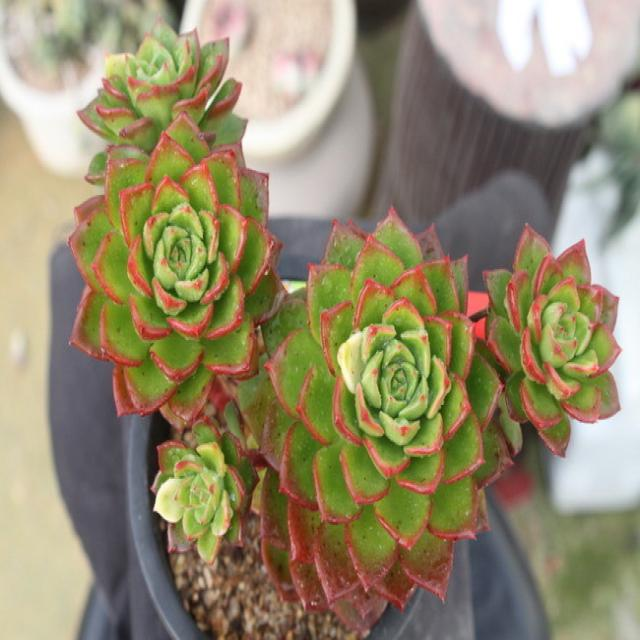Letizia: (238, 210, 511, 631), (69, 113, 284, 421), (485, 225, 620, 453), (152, 415, 258, 564)
